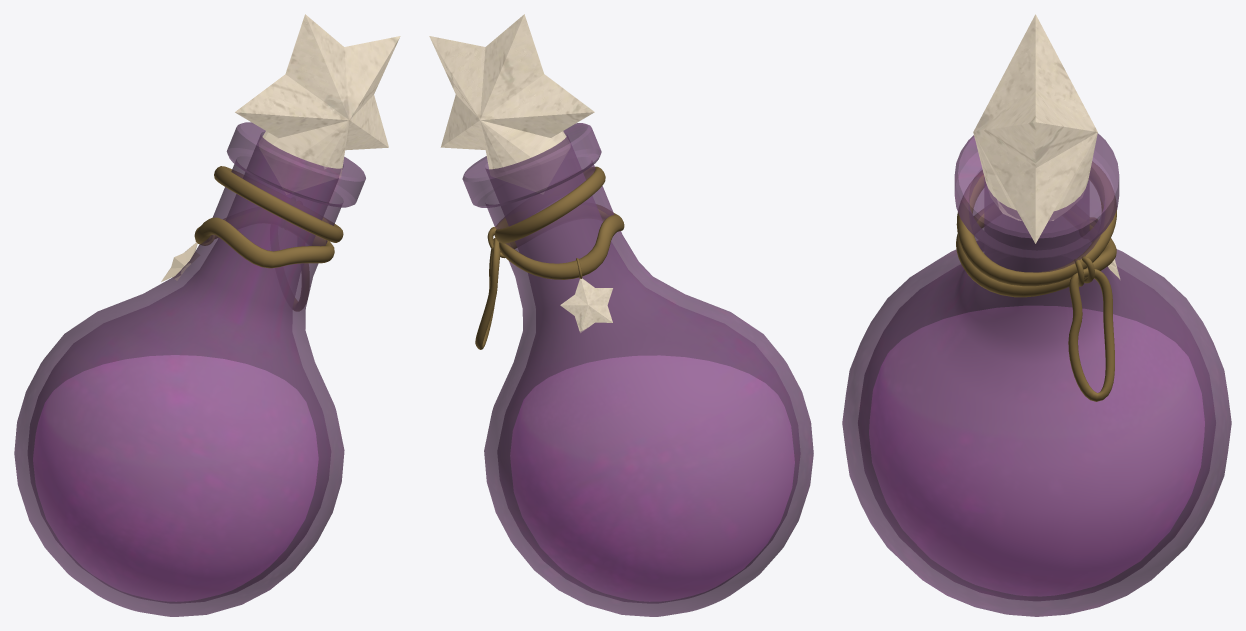
Rendered from star-potion.glb.
3 renders of one model, left to right at view 1: azimuth 30°, elevation 25°; view 2: azimuth 150°, elevation 25°; view 3: azimuth 270°, elevation 25°, orthographic. The views are drawn at different scales.
Visible parts, largest first — view 1: defaultMaterial (×4); view 2: defaultMaterial (×4); view 3: defaultMaterial (×4).
Boxes of the visible parts, x1=… form: defaultMaterial (×4): x1=14, y1=14, x2=400, y2=616; defaultMaterial (×4): x1=429, y1=14, x2=813, y2=616; defaultMaterial (×4): x1=842, y1=14, x2=1231, y2=616.
Bounding box in the file's own units: 254 × 372 × 200.
Materials: 4 (2 with a texture image).
